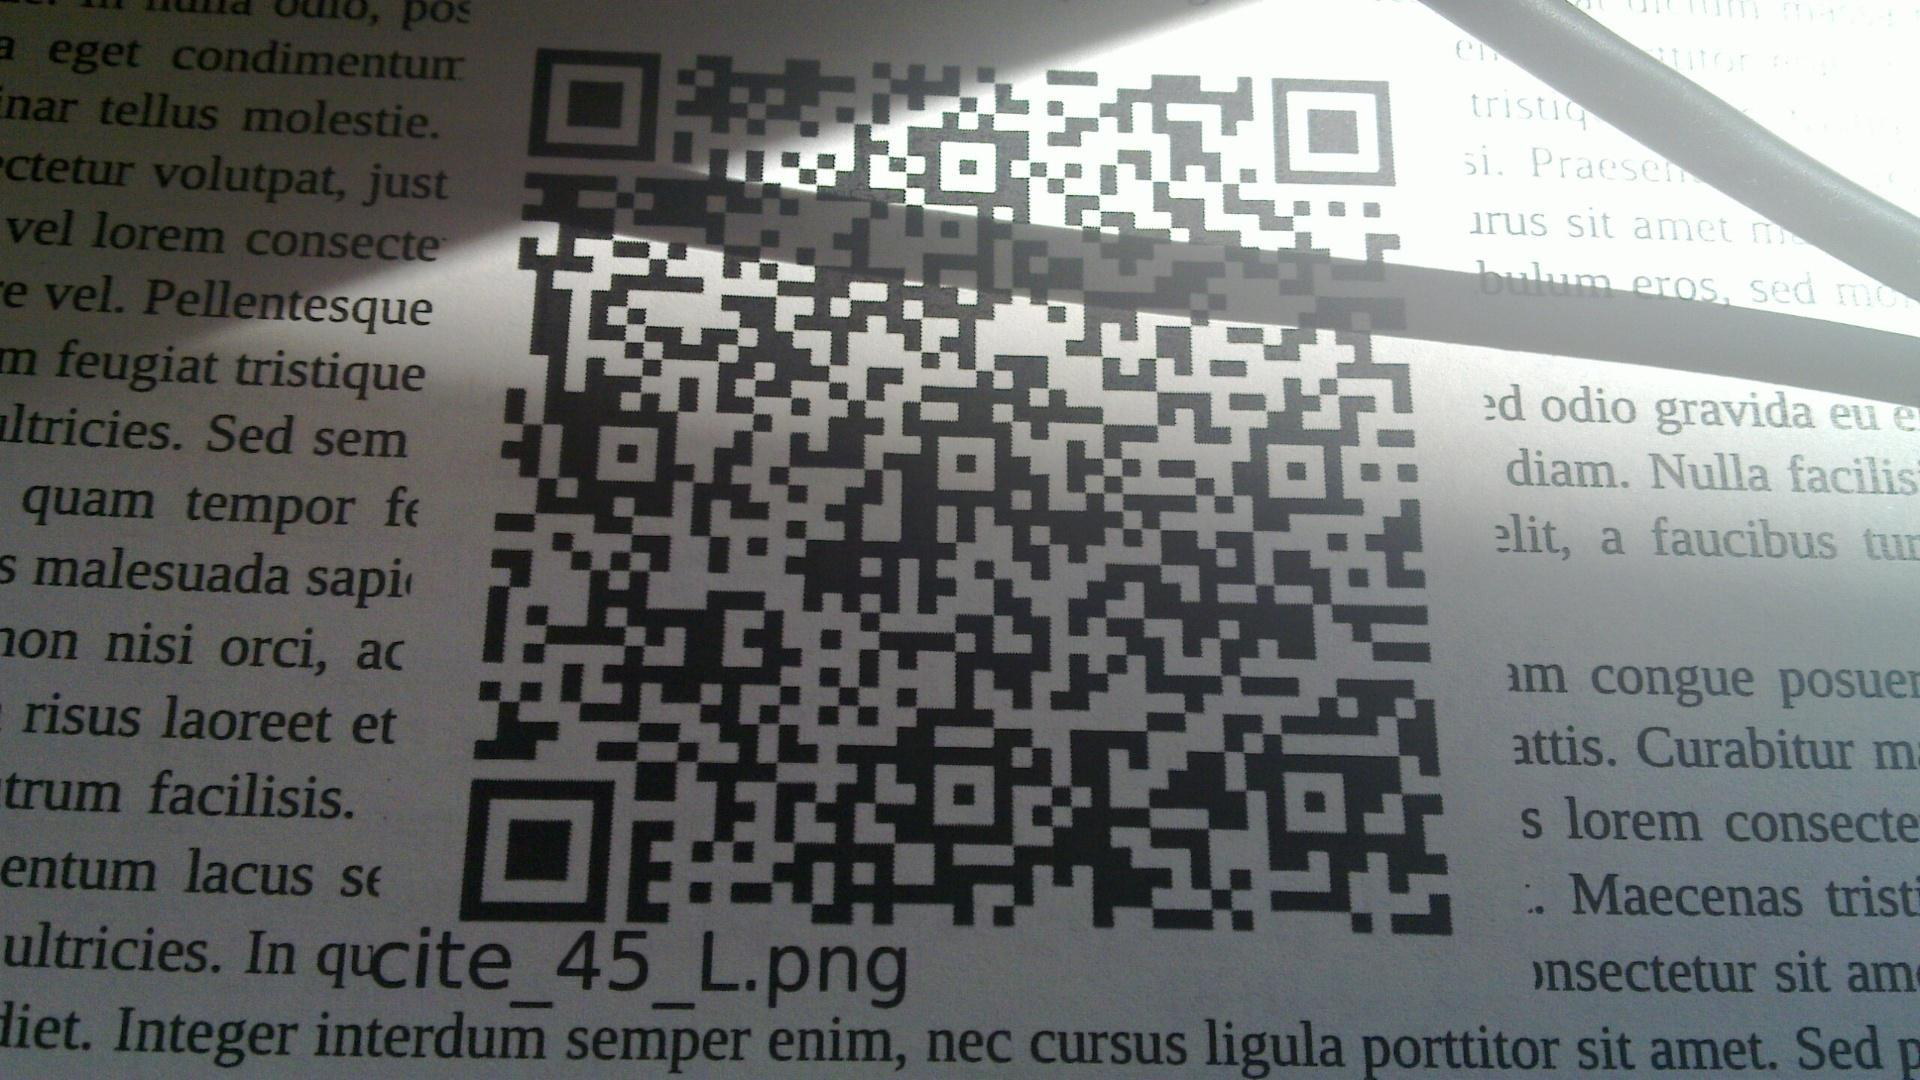Finder pattern: (459, 769, 621, 926), (524, 40, 669, 171), (1262, 69, 1408, 193)
